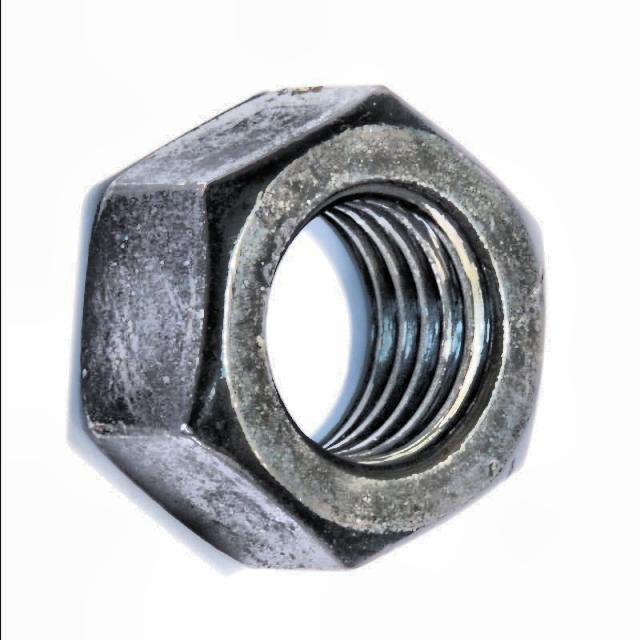Nut Detection - v1 Nut Dataset: (61, 65, 552, 584)
